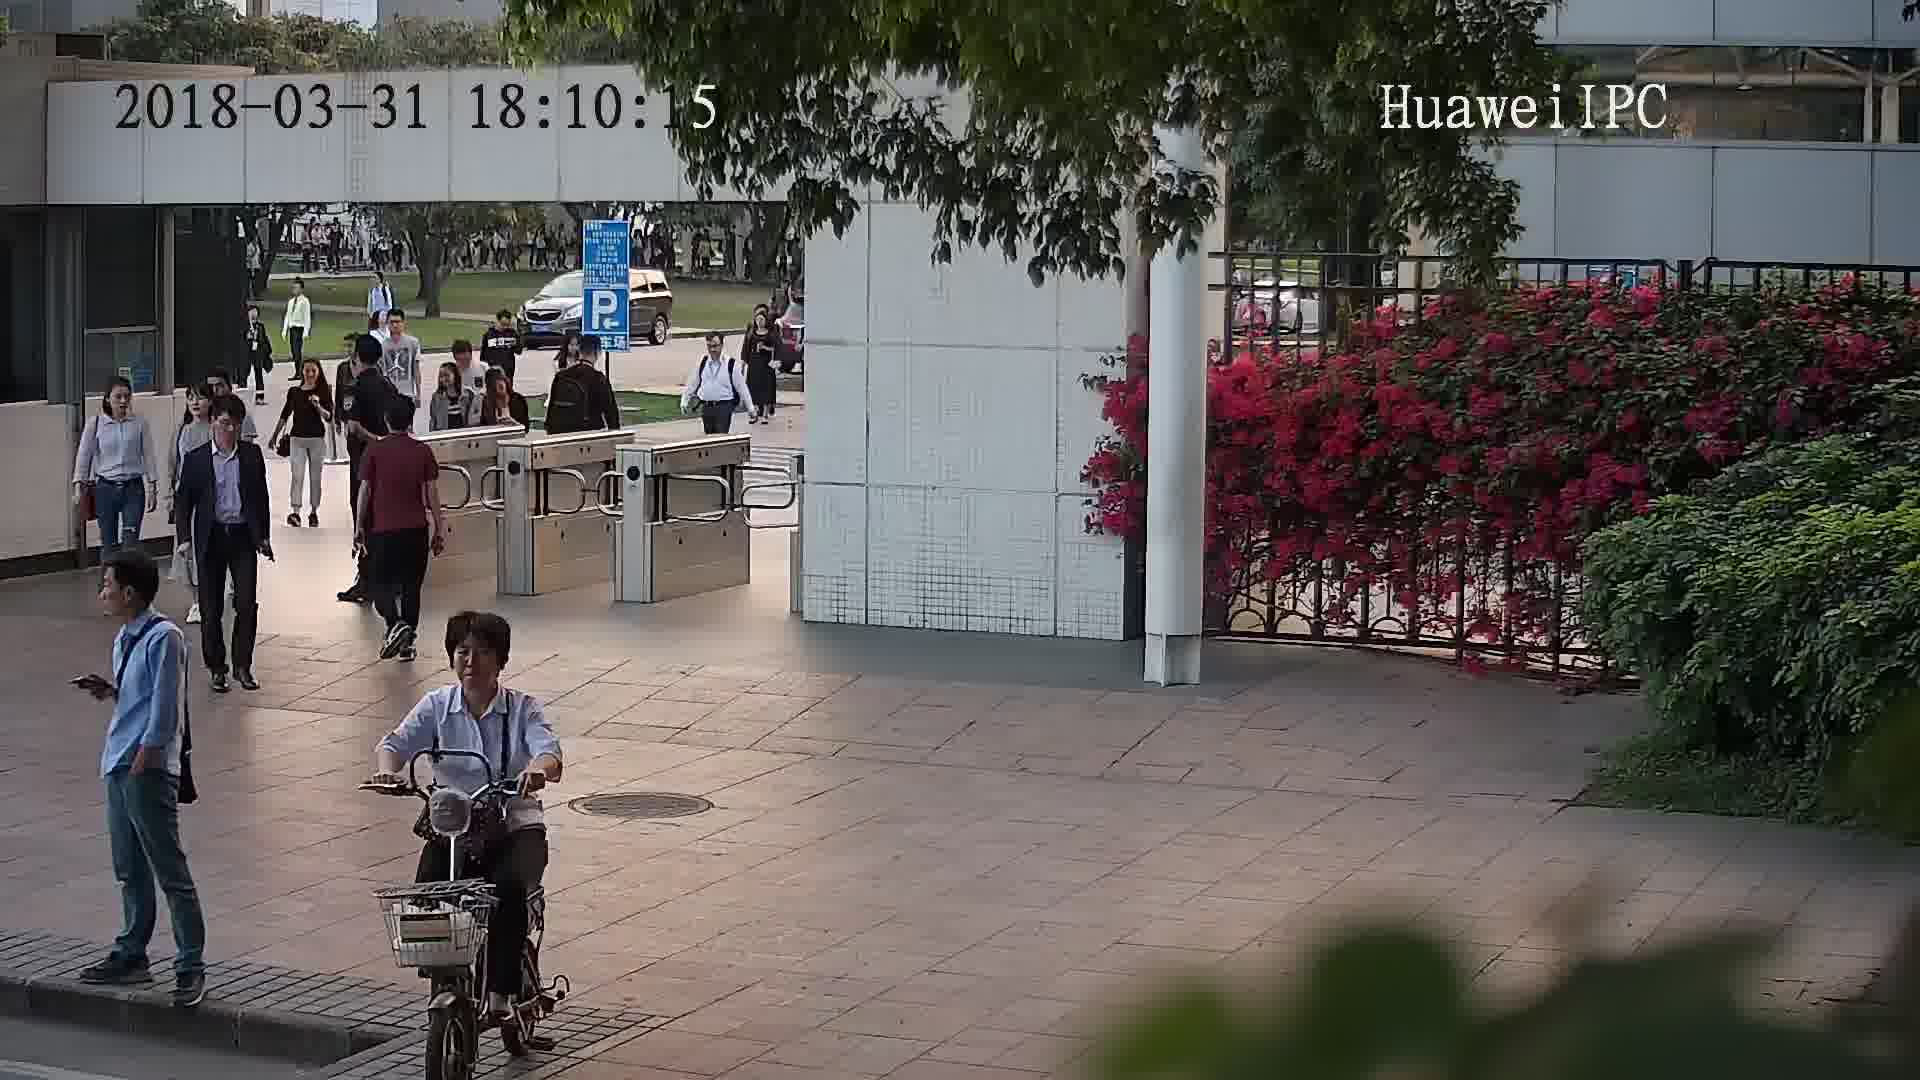face: (444, 632, 503, 691)
person: (411, 612, 545, 730), (97, 544, 185, 678), (190, 399, 262, 479), (364, 393, 434, 468), (91, 371, 151, 436), (176, 377, 223, 445), (349, 334, 394, 395), (285, 354, 335, 401), (566, 333, 611, 383), (445, 335, 488, 384), (379, 307, 424, 352), (476, 365, 521, 408), (432, 360, 472, 407), (695, 327, 737, 368), (361, 266, 396, 300), (487, 308, 522, 341), (748, 300, 780, 333), (286, 274, 313, 308)
